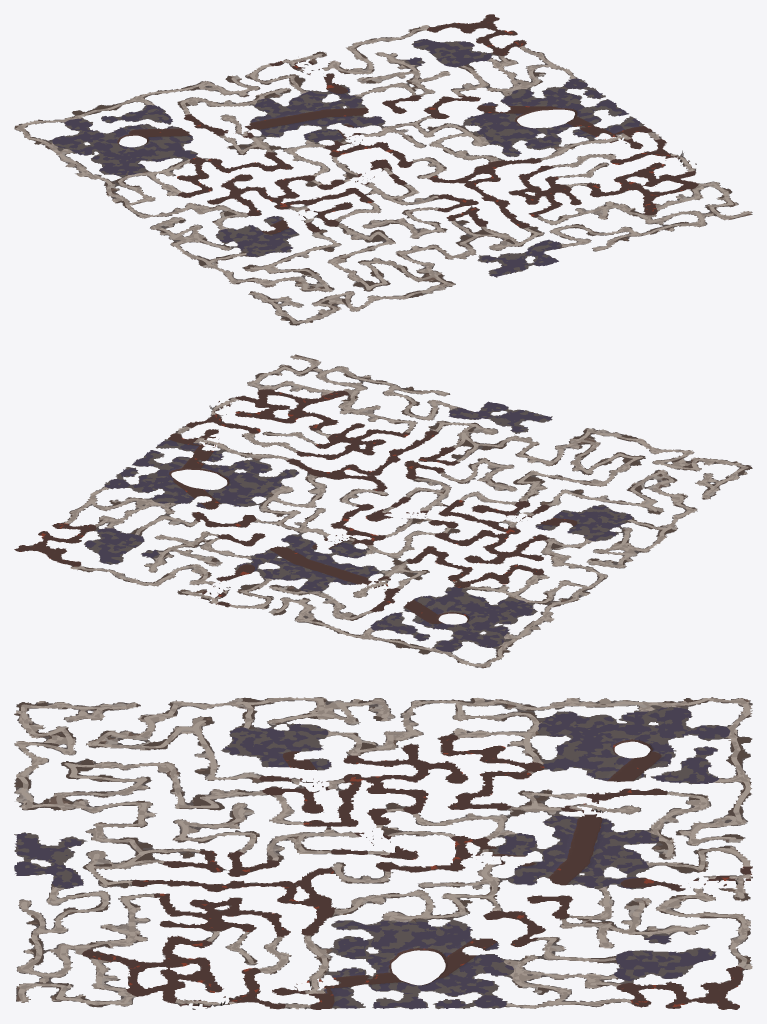
File: Dungeon-3D-Ground.fbx
3 renders of one model, top to bottom at view 1: azimuth 30°, elevation 25°; view 2: azimuth 150°, elevation 25°; view 3: azimuth 270°, elevation 25°, orthographic. The views are drawn at different scales.
Visible parts, largest first — view 1: Dungeon-3D-Ground-c16, Dungeon-3D-Ground-c46, Dungeon-3D-Ground-c06, Dungeon-3D-Ground-c36, Dungeon-3D-Ground-c74, Dungeon-3D-Ground-c64, Dungeon-3D-Ground-c73, Dungeon-3D-Ground-c12, Dungeon-3D-Ground-c35, Dungeon-3D-Ground-c54, Dungeon-3D-Ground-c40, Dungeon-3D-Ground-c45 (+52 smaller); view 2: Dungeon-3D-Ground-c16, Dungeon-3D-Ground-c06, Dungeon-3D-Ground-c36, Dungeon-3D-Ground-c46, Dungeon-3D-Ground-c64, Dungeon-3D-Ground-c74, Dungeon-3D-Ground-c73, Dungeon-3D-Ground-c12, Dungeon-3D-Ground-c54, Dungeon-3D-Ground-c35, Dungeon-3D-Ground-c45, Dungeon-3D-Ground-c40 (+52 smaller); view 3: Dungeon-3D-Ground-c16, Dungeon-3D-Ground-c06, Dungeon-3D-Ground-c64, Dungeon-3D-Ground-c36, Dungeon-3D-Ground-c46, Dungeon-3D-Ground-c74, Dungeon-3D-Ground-c73, Dungeon-3D-Ground-c12, Dungeon-3D-Ground-c35, Dungeon-3D-Ground-c54, Dungeon-3D-Ground-c45, Dungeon-3D-Ground-c05 (+52 smaller).
Part boxes in pixels (x1,y1,x2,y2): Dungeon-3D-Ground-c16: [101, 122, 189, 162]; Dungeon-3D-Ground-c46: [283, 81, 365, 118]; Dungeon-3D-Ground-c06: [51, 137, 136, 176]; Dungeon-3D-Ground-c36: [228, 93, 317, 131]; Dungeon-3D-Ground-c74: [533, 86, 625, 124]; Dungeon-3D-Ground-c64: [475, 100, 568, 139]; Dungeon-3D-Ground-c73: [568, 111, 658, 144]; Dungeon-3D-Ground-c12: [240, 227, 334, 264]; Dungeon-3D-Ground-c35: [260, 119, 350, 157]; Dungeon-3D-Ground-c54: [417, 116, 507, 153]; Dungeon-3D-Ground-c40: [491, 231, 571, 269]; Dungeon-3D-Ground-c45: [318, 106, 408, 144]; Dungeon-3D-Ground-c16: [402, 594, 496, 631]; Dungeon-3D-Ground-c06: [462, 605, 553, 643]; Dungeon-3D-Ground-c36: [282, 562, 371, 600]; Dungeon-3D-Ground-c46: [231, 550, 315, 586]; Dungeon-3D-Ground-c64: [170, 466, 264, 504]; Dungeon-3D-Ground-c74: [115, 452, 204, 492]; Dungeon-3D-Ground-c73: [148, 427, 229, 466]; Dungeon-3D-Ground-c12: [553, 489, 635, 529]; Dungeon-3D-Ground-c54: [233, 481, 322, 520]; Dungeon-3D-Ground-c35: [316, 536, 408, 575]; Dungeon-3D-Ground-c45: [268, 522, 350, 561]; Dungeon-3D-Ground-c40: [430, 401, 522, 434]; Dungeon-3D-Ground-c16: [569, 734, 663, 775]; Dungeon-3D-Ground-c06: [569, 697, 663, 735]; Dungeon-3D-Ground-c64: [383, 931, 477, 972]; Dungeon-3D-Ground-c36: [569, 813, 663, 853]; Dungeon-3D-Ground-c46: [568, 852, 663, 892]; Dungeon-3D-Ground-c74: [383, 970, 477, 1009]; Dungeon-3D-Ground-c73: [289, 970, 383, 1009]; Dungeon-3D-Ground-c12: [197, 734, 291, 774]; Dungeon-3D-Ground-c35: [475, 813, 569, 853]; Dungeon-3D-Ground-c54: [383, 892, 477, 931]; Dungeon-3D-Ground-c45: [475, 852, 570, 892]; Dungeon-3D-Ground-c05: [475, 698, 569, 735].
Bounding box in the file's own units: 131 × 1.84 × 131.
